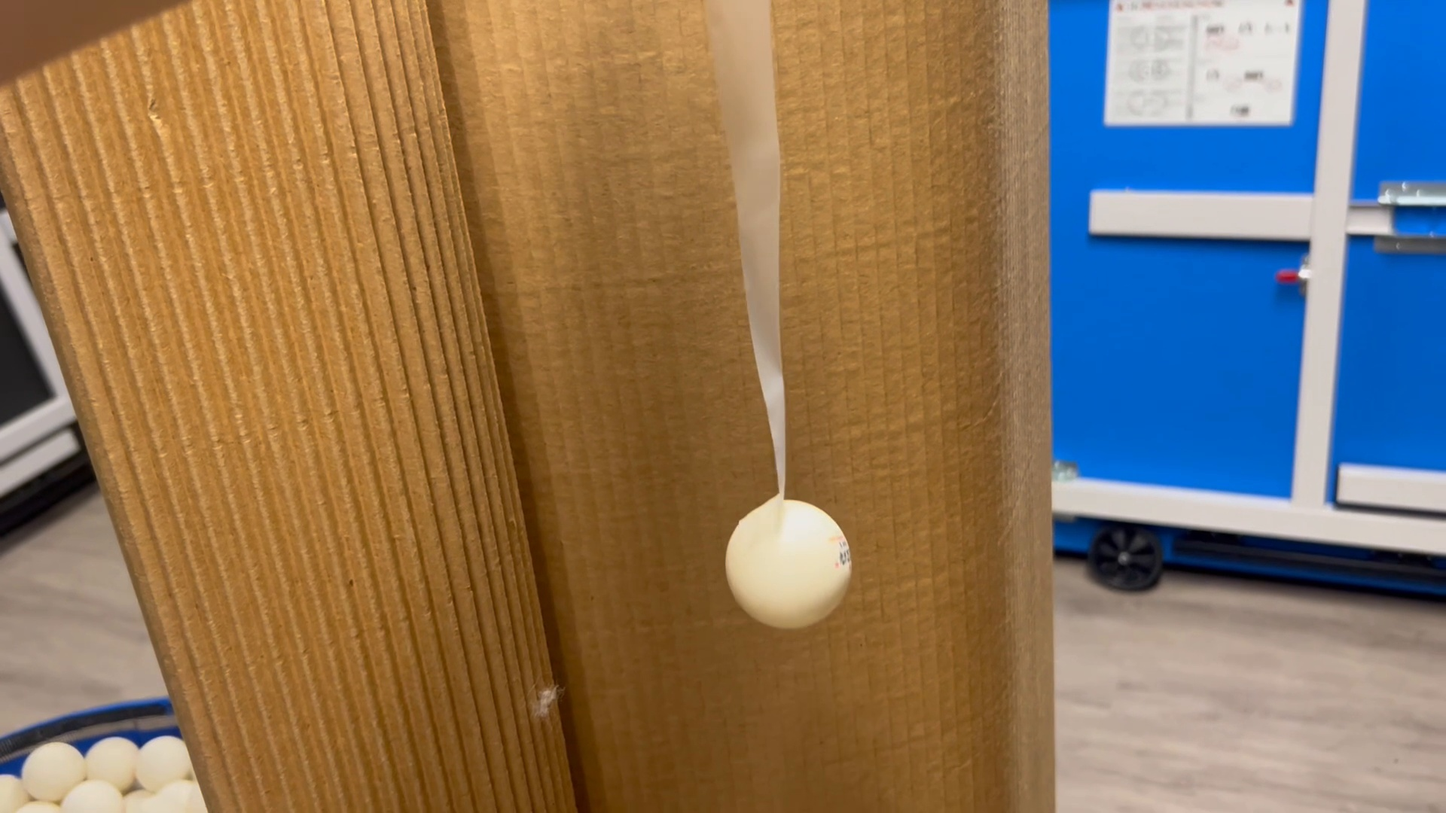Ball: (715, 486, 873, 647)
